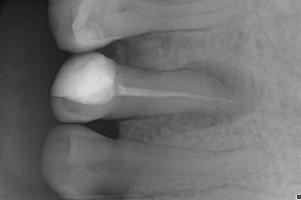Furcation Involvement: (177, 60, 257, 128)
